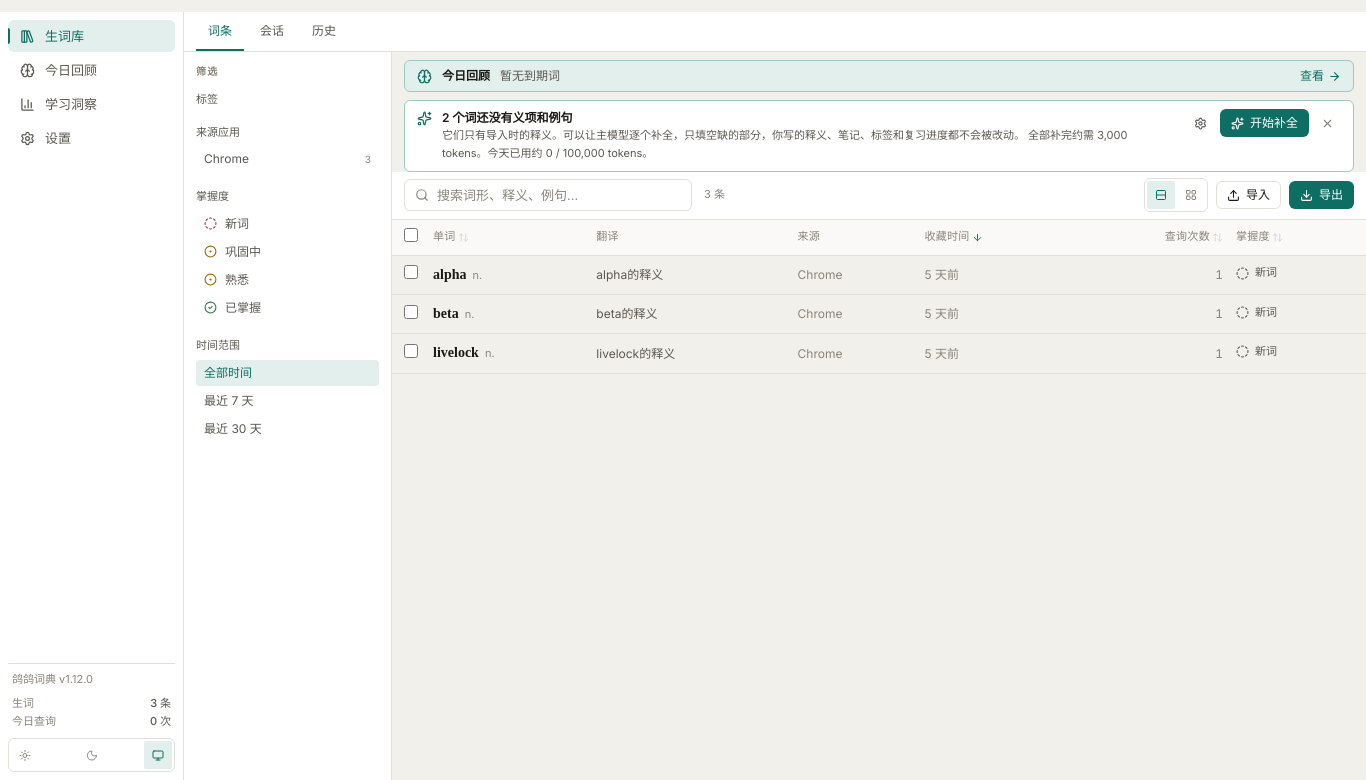
Test: the word list in the library › filling in the words that have only a meaning › offers to do it for all of them, which are the ones without senses and examples
Expected: the text "2 个词还没有义项和例句" is shown, left=442, top=110, right=572, bottom=125
Click the button "开始补全" at (1264, 123), box left=1220, top=109, right=1309, bottom=137
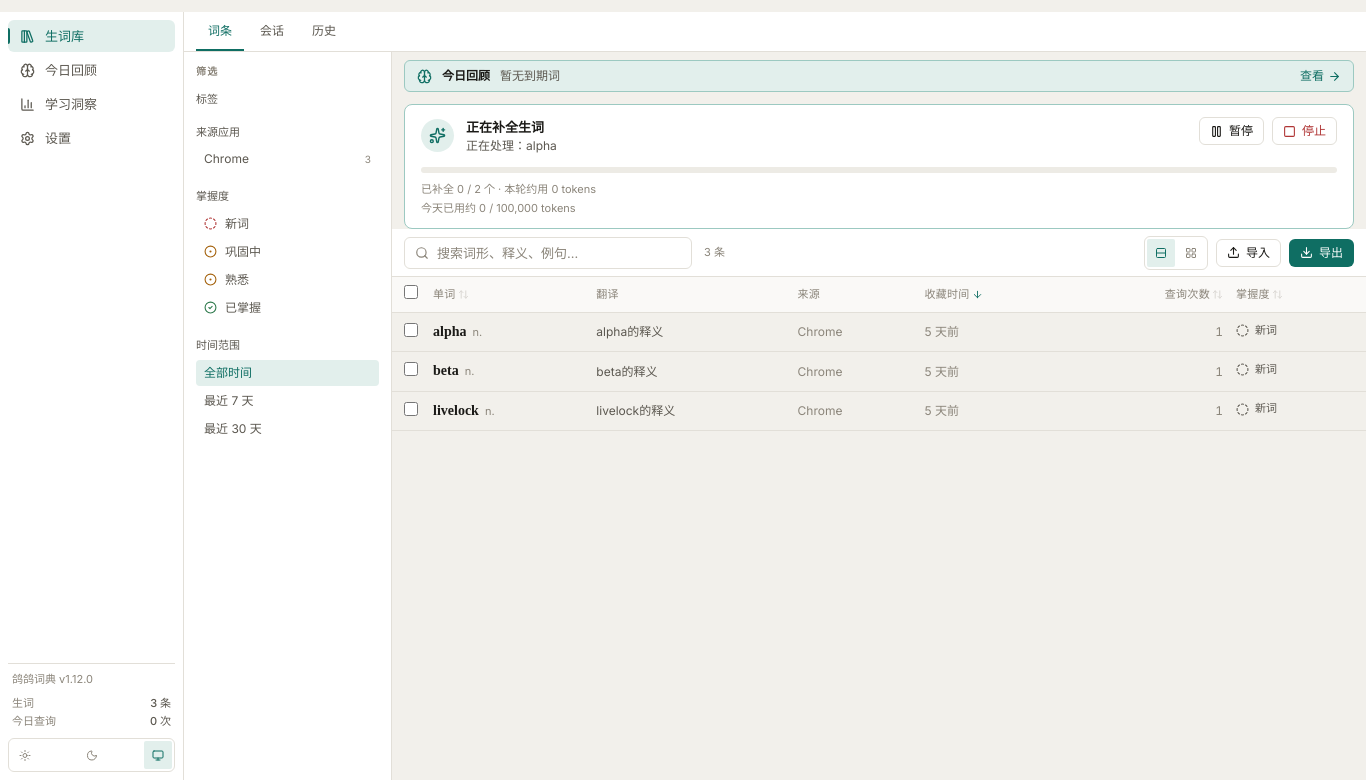
Now the text "正在补全生词" is shown, box left=466, top=119, right=544, bottom=135
